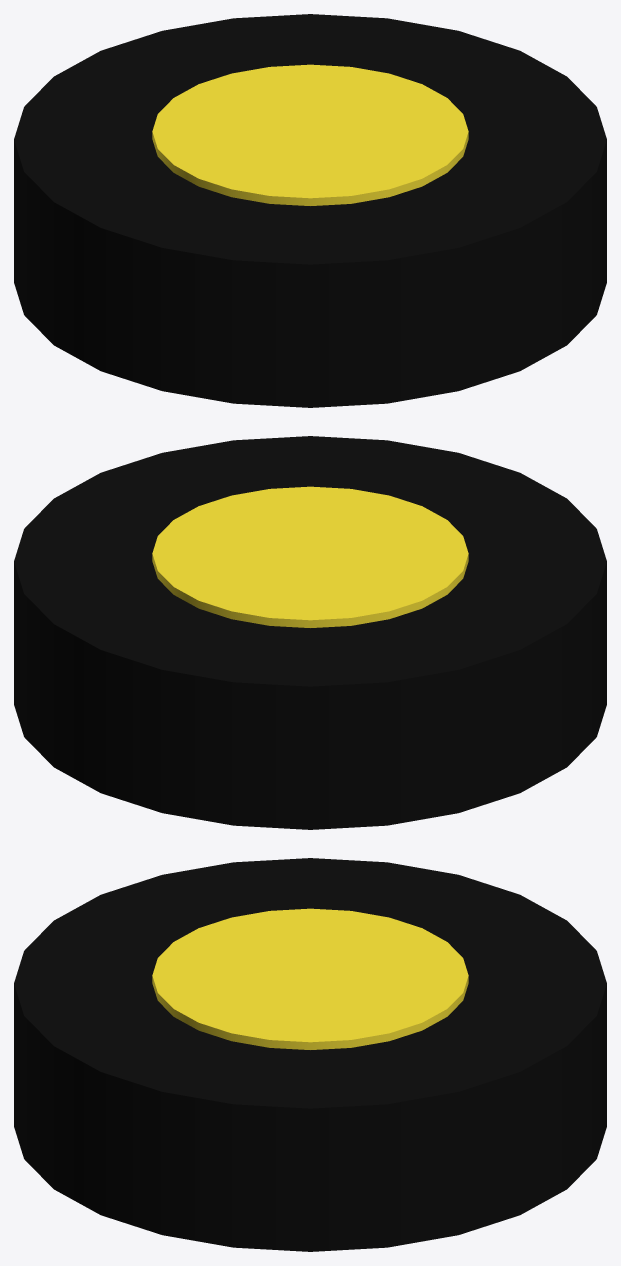
File: LlantaAdelanteAfuera.obj
The picture shows the model from 3 angles, top to bottom: view 1: azimuth 30°, elevation 25°; view 2: azimuth 150°, elevation 25°; view 3: azimuth 270°, elevation 25°; orthographic projection.
Parts seen in each view (by area): view 1: LlantaAdelanteAfuera; view 2: LlantaAdelanteAfuera; view 3: LlantaAdelanteAfuera.
Boxes of the visible parts, x1=… form: LlantaAdelanteAfuera: x1=14, y1=14, x2=606, y2=407; LlantaAdelanteAfuera: x1=14, y1=436, x2=606, y2=829; LlantaAdelanteAfuera: x1=14, y1=858, x2=606, y2=1251.
Bounding box in the file's own units: 1.5 × 0.422 × 1.5.
